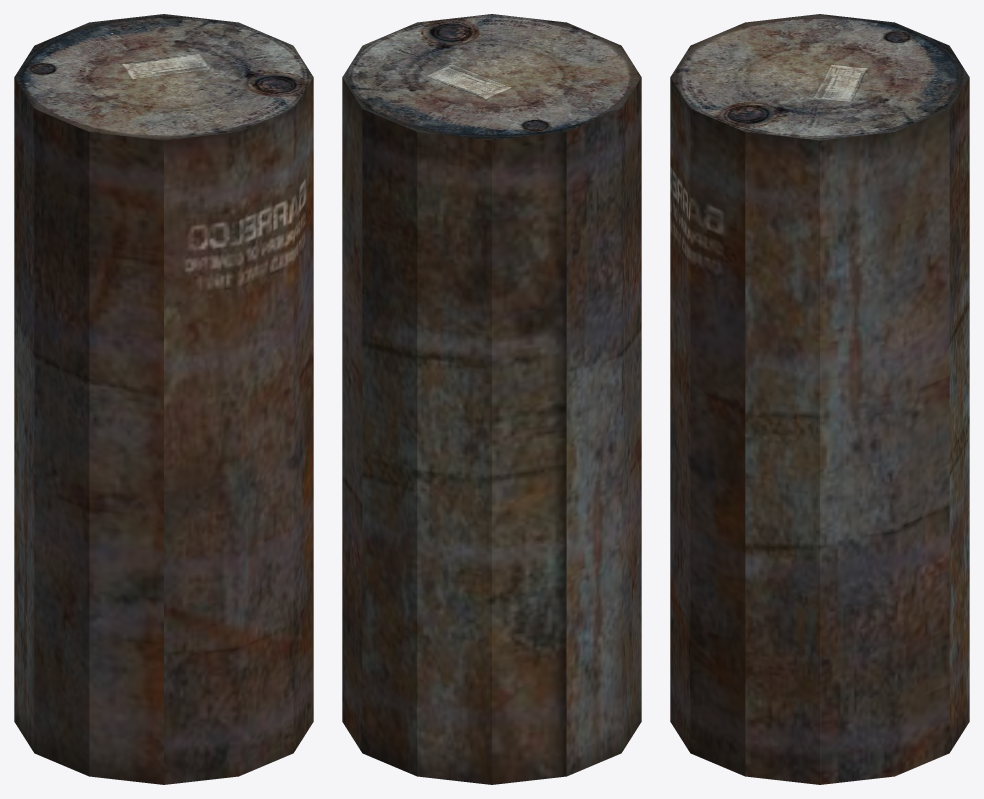
The model's file is barreltex.obj.
The picture shows the model from 3 angles, left to right: view 1: azimuth 30°, elevation 25°; view 2: azimuth 150°, elevation 25°; view 3: azimuth 270°, elevation 25°; orthographic projection.
Visible parts, largest first — view 1: Cylinder; view 2: Cylinder; view 3: Cylinder.
Part boxes in pixels (box(x1,y1,x2,y2)): Cylinder: box(14, 14, 313, 784); Cylinder: box(342, 14, 641, 784); Cylinder: box(670, 14, 969, 784).
Bounding box in the file's own units: 0.6464 × 1.54 × 0.6464.
Materials: 1 (1 with a texture image).
